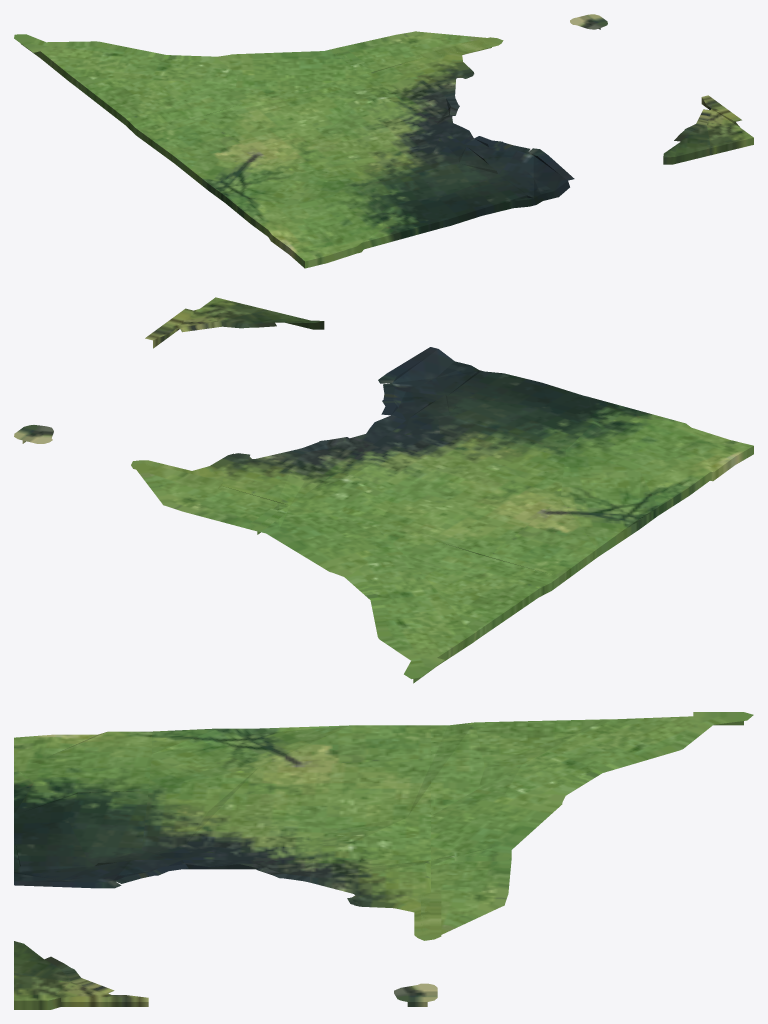
The model's file is BuildingMesh-00086.gltf.
3 renders of one model, top to bottom at view 1: azimuth 30°, elevation 25°; view 2: azimuth 150°, elevation 25°; view 3: azimuth 270°, elevation 25°, orthographic. The views are drawn at different scales.
Visible parts, largest first — view 1: BuildingMesh-00086; view 2: BuildingMesh-00086; view 3: BuildingMesh-00086.
Part boxes in pixels (x1=…): BuildingMesh-00086: x1=14, y1=14, x2=753, y2=268; BuildingMesh-00086: x1=14, y1=297, x2=753, y2=683; BuildingMesh-00086: x1=14, y1=712, x2=753, y2=1009.
Size of the model in its own units: 1.6 by 0.0785 by 1.73.
Materials: 1 (1 with a texture image).
